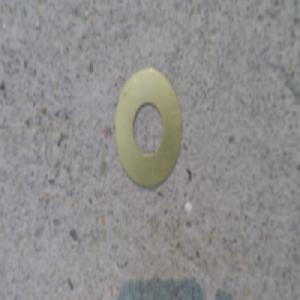Washer: (114, 64, 182, 184)
